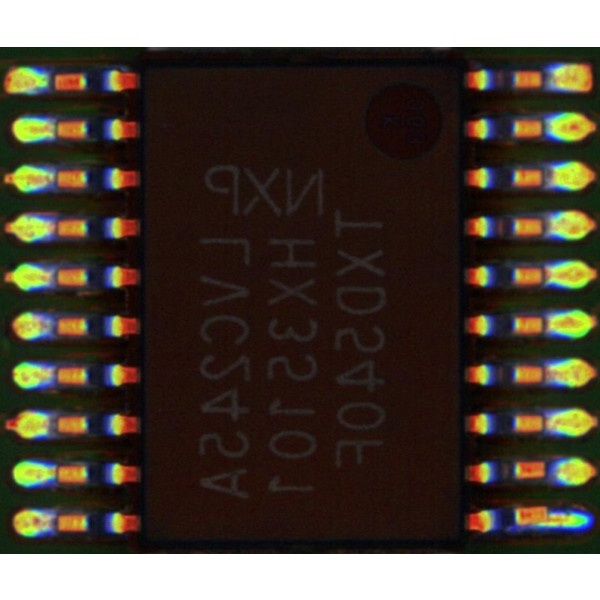Bad_podu: (536, 514, 558, 526)
